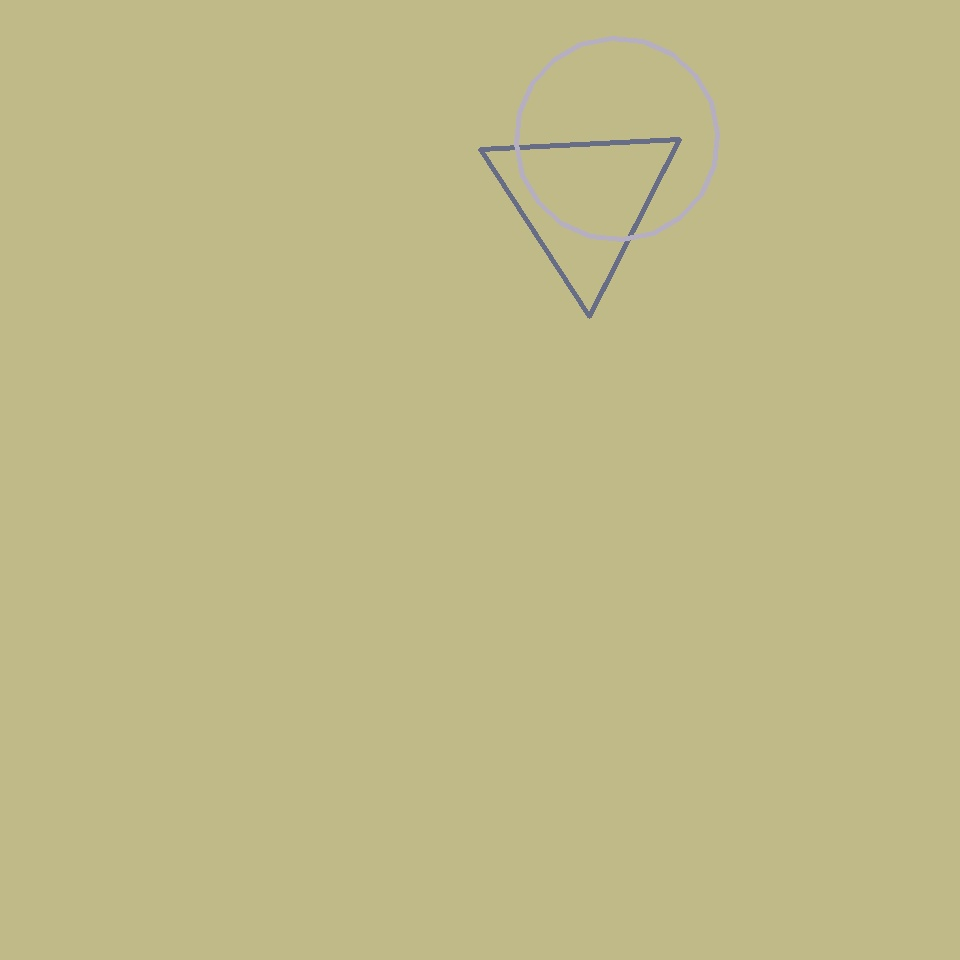circle: (484, 114, 682, 290)
triangle: (516, 39, 718, 240)
